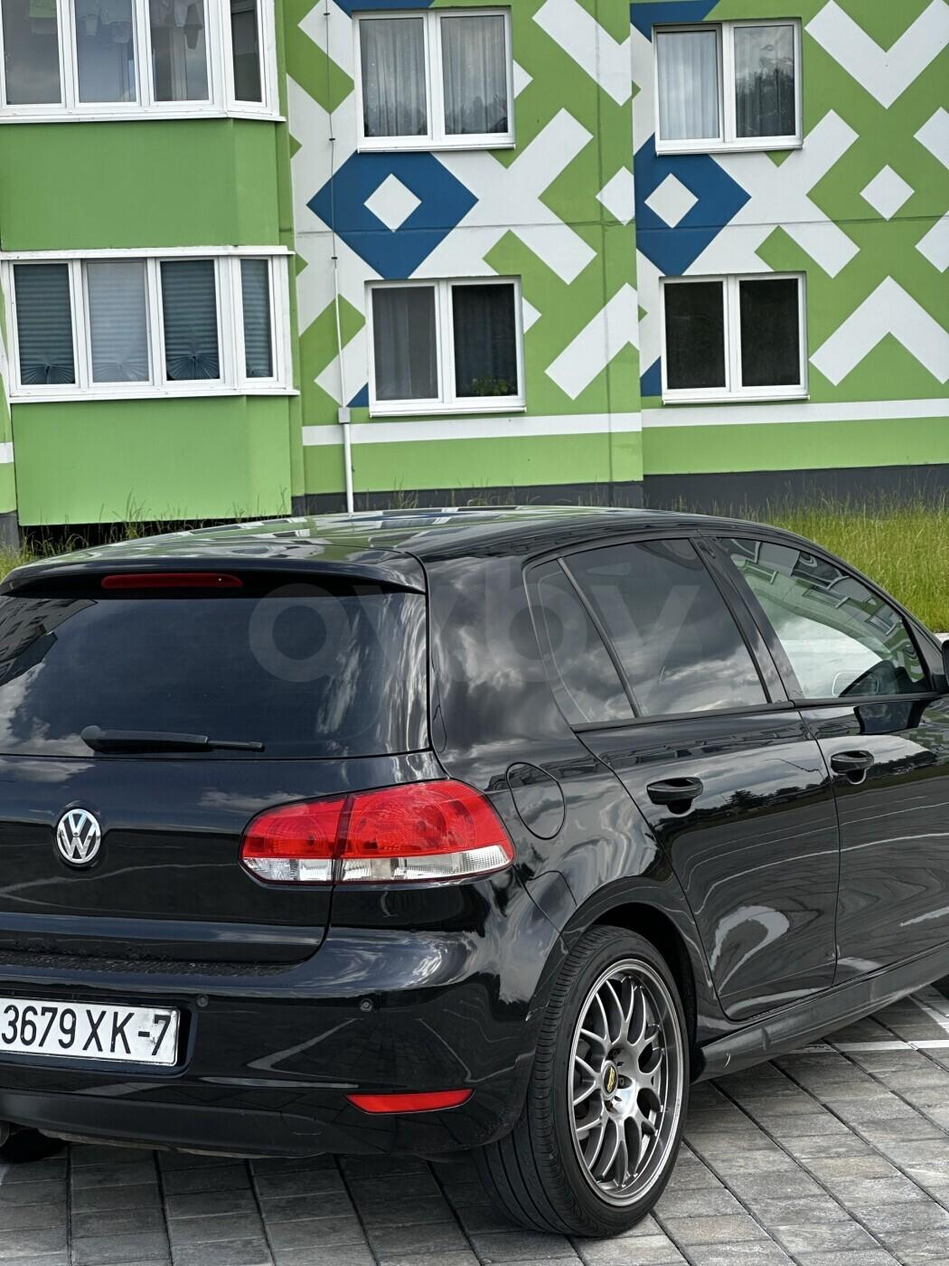Golf_2008-2013: (0, 498, 949, 1251)
